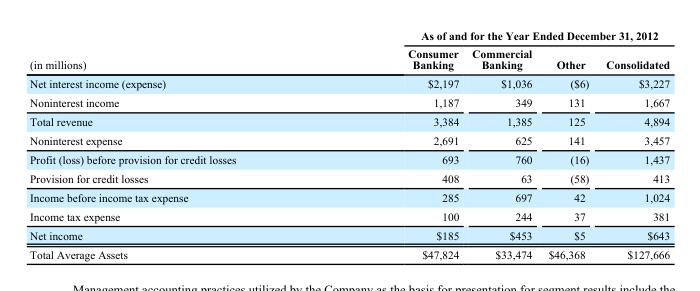table: (29, 29, 669, 260)
table column: (29, 29, 321, 260), (321, 29, 464, 260), (464, 29, 539, 260), (596, 29, 669, 260), (539, 29, 596, 260)
table column header: (29, 29, 669, 73)
table row: (29, 44, 669, 73), (29, 73, 669, 92), (29, 92, 669, 111), (29, 111, 669, 130), (29, 130, 669, 149), (29, 149, 669, 168), (29, 168, 669, 187), (29, 187, 669, 206), (29, 206, 669, 225), (29, 225, 669, 244), (29, 244, 669, 260), (29, 29, 669, 44)
table spanning cell: (29, 29, 321, 73), (321, 29, 669, 44)
